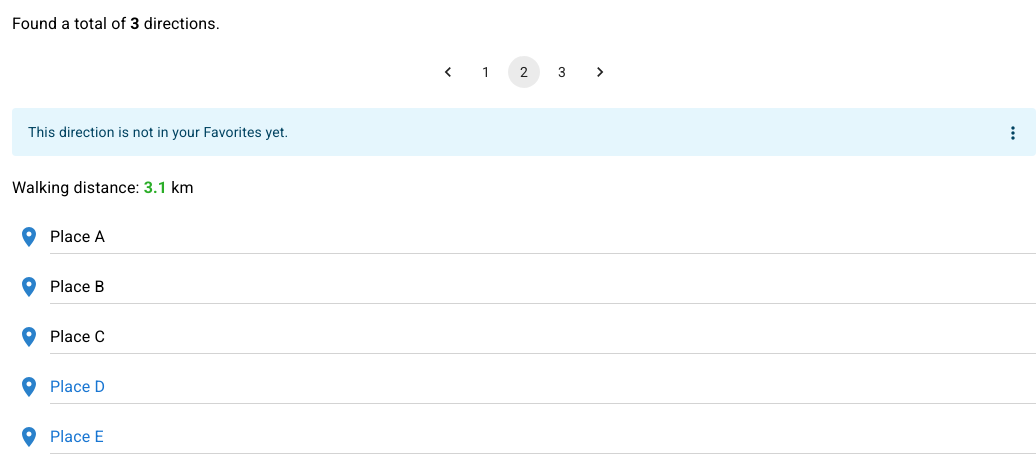
Scenario: <ResultDirecsContent /> › pagination › should show previous direction upon click on Previous
expect the text "Direction A" is not shown: met
Click the button named "Go to previous page" at coordinates (448, 72), box [432,56,464,88]
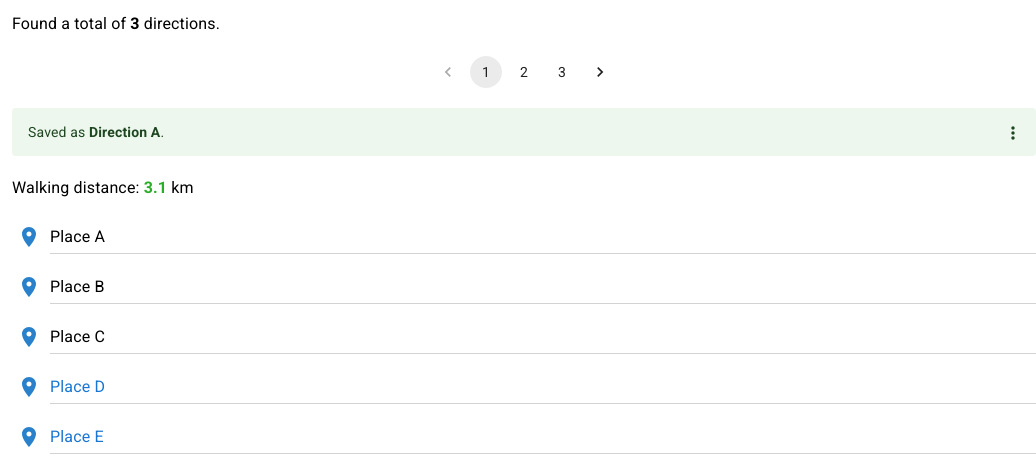
expect the text "Direction A" is shown: met, box [89,124,160,140]
